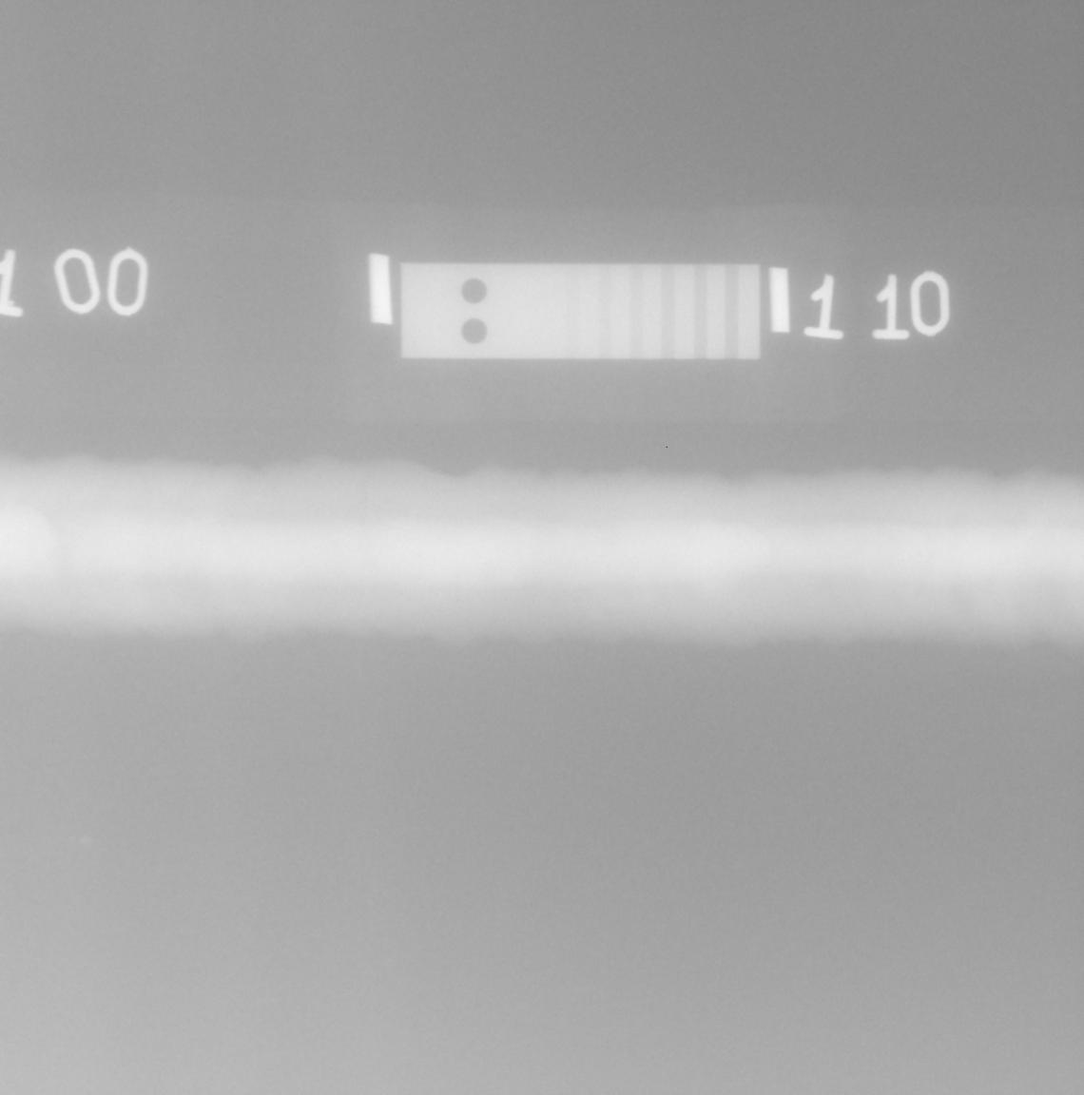Reference Standard 2: (399, 262, 760, 360)
